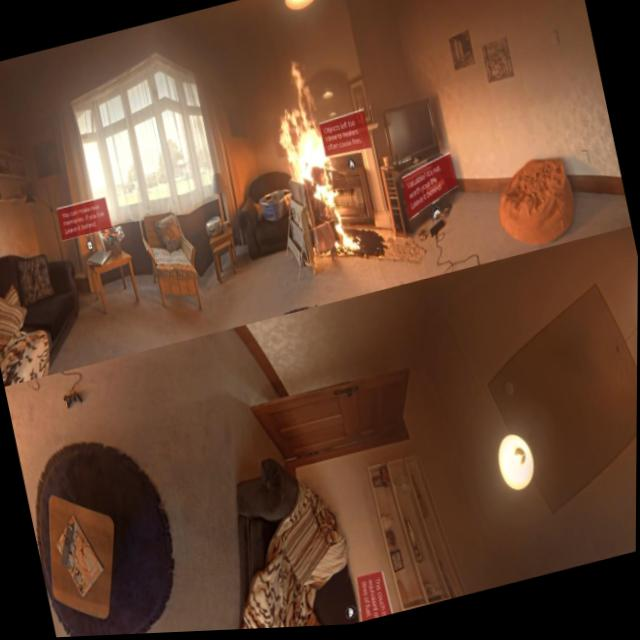fire: (262, 52, 366, 272)
